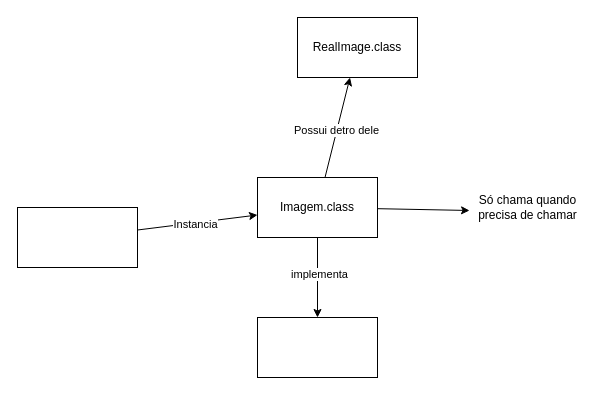
Some shapes in this 605 by 395 pixel diagram are drawn without their labels. Here are the shapes that lost their labels. From the top down, the box of each, then its label:
(16, 206, 138, 268): Main.class
(256, 316, 378, 378): IImagem
